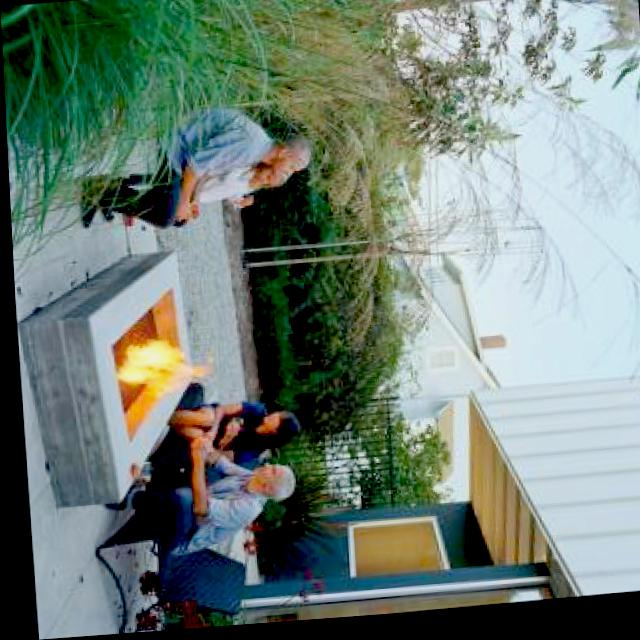Fire: (98, 328, 214, 395)
